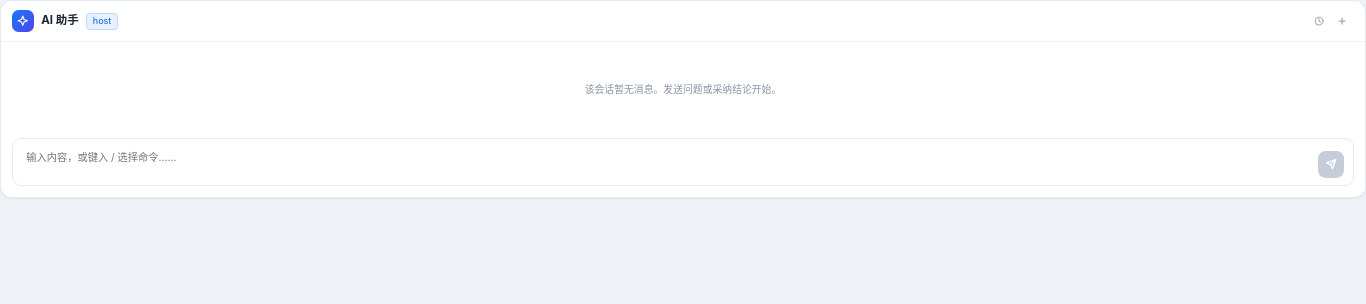
Test case: ChatWidget 发送（§3.2/§8） › buildCommand 抛出：会话在途被清、错误行落线程、无未处理拒绝
Type "触发拼装失败" into the text box named "消息输入" at (667, 162), box [24,146,1311,178]
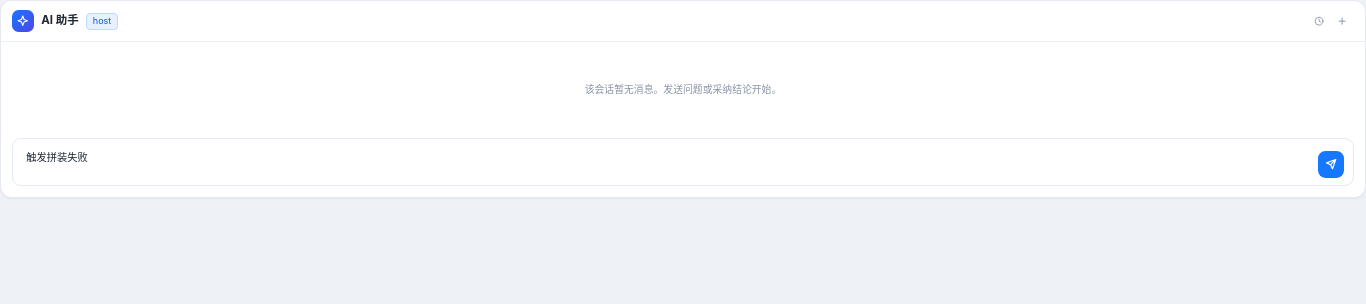
Click the button named "发送" at (1331, 165), box [1318,152,1344,178]
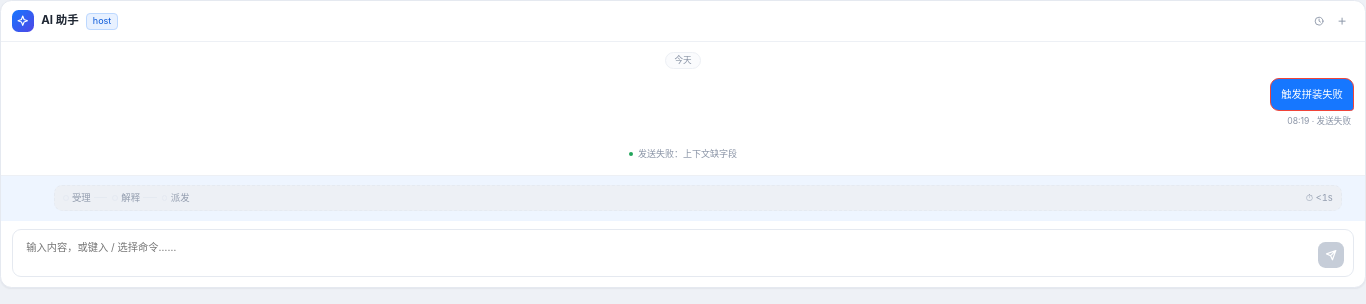
Check: the text "发送失败：上下文缺字段" is shown, box [629,147,737,161]
